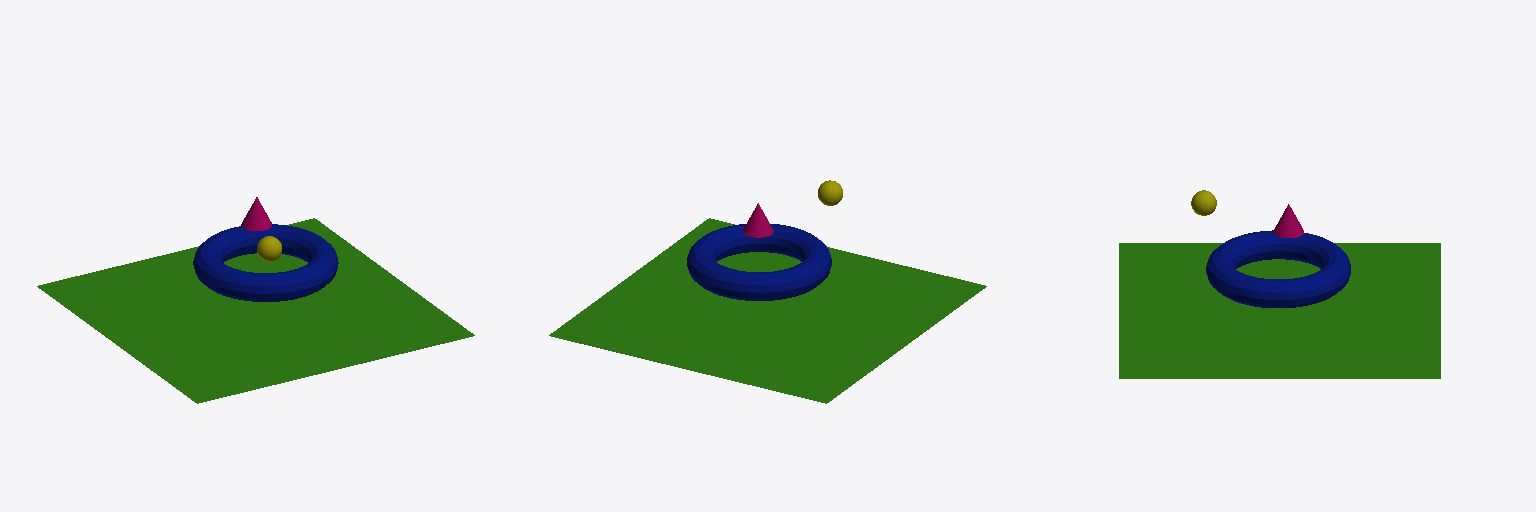
The model's file is reflect_test.obj.
3 views of the same model, side by side, from view 1: azimuth 30°, elevation 25°; view 2: azimuth 150°, elevation 25°; view 3: azimuth 270°, elevation 25° (orthographic).
Visible parts, largest first — view 1: Plane, Torus, Cone; view 2: Plane, Torus, Cone; view 3: Plane, Torus, Cone.
Boxes of the visible parts, x1,y1,x2,y2 form: Plane: [37, 218, 474, 403]; Torus: [193, 224, 338, 301]; Cone: [241, 197, 271, 230]; Plane: [549, 218, 986, 403]; Torus: [687, 224, 831, 300]; Cone: [743, 203, 773, 237]; Plane: [1119, 243, 1440, 378]; Torus: [1206, 230, 1350, 307]; Cone: [1273, 204, 1303, 237].
Size of the model in its own units: 4.16 by 1.57 by 4.16.